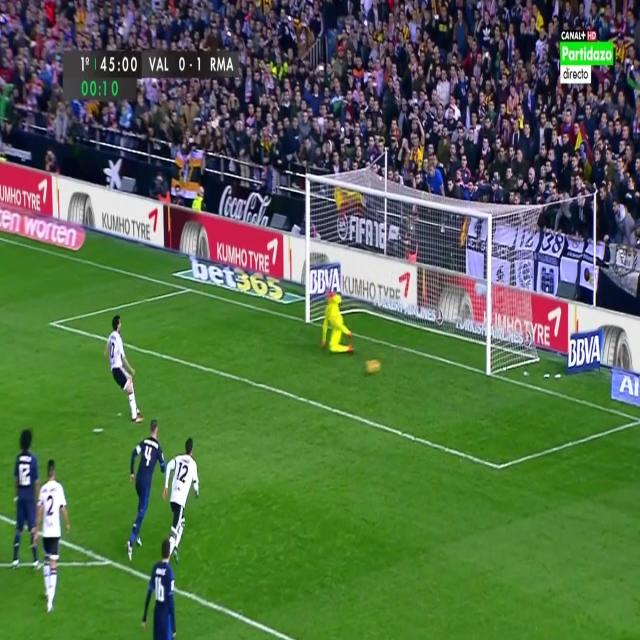Ball: (363, 355, 382, 378)
Goalkeeper: (320, 289, 356, 358)
Player: (122, 417, 167, 564), (34, 458, 72, 615), (162, 433, 202, 563), (8, 424, 42, 576), (103, 310, 144, 428), (140, 537, 180, 639)
